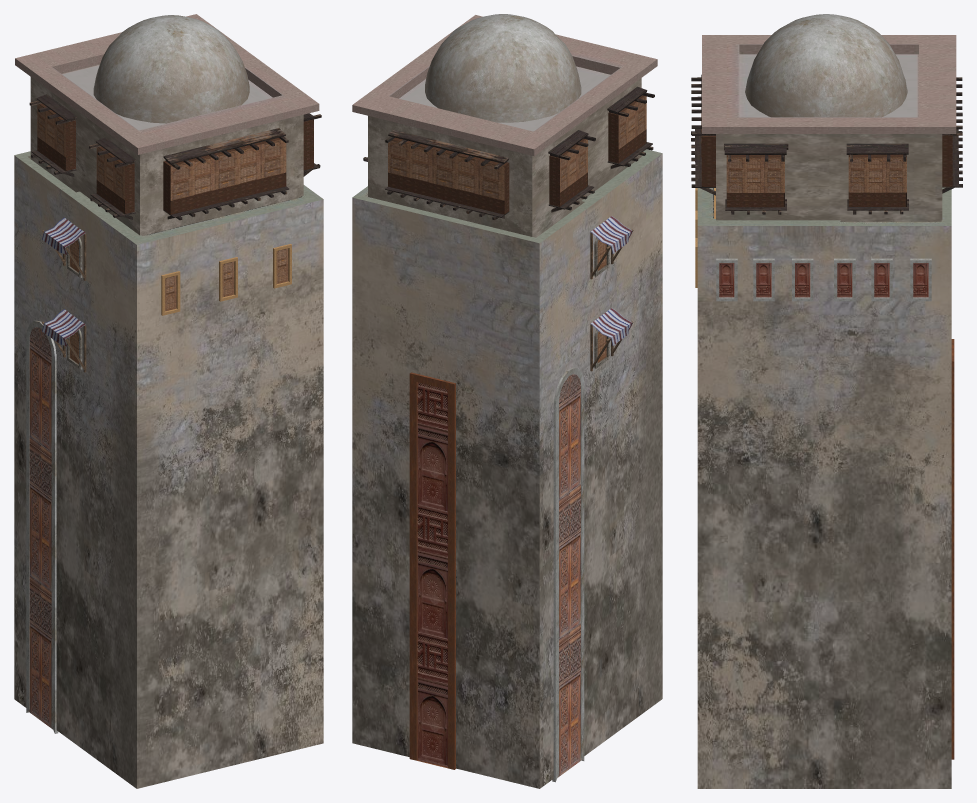
Rendered from medina_cityscape_daar_04_1.gltf.
3 views of the same model, side by side, from view 1: azimuth 30°, elevation 25°; view 2: azimuth 150°, elevation 25°; view 3: azimuth 270°, elevation 25° (orthographic). The views are drawn at different scales.
Parts seen in each view (by area): view 1: medina_cityscape_daar_04_1; view 2: medina_cityscape_daar_04_1; view 3: medina_cityscape_daar_04_1.
Part boxes in pixels (box(x1,y1,x2,y2)): medina_cityscape_daar_04_1: box(14, 14, 323, 788); medina_cityscape_daar_04_1: box(352, 14, 662, 788); medina_cityscape_daar_04_1: box(691, 14, 962, 788).
Size of the model in its own units: 3.73 by 11.24 by 3.82.
11 materials, 11 textured.
